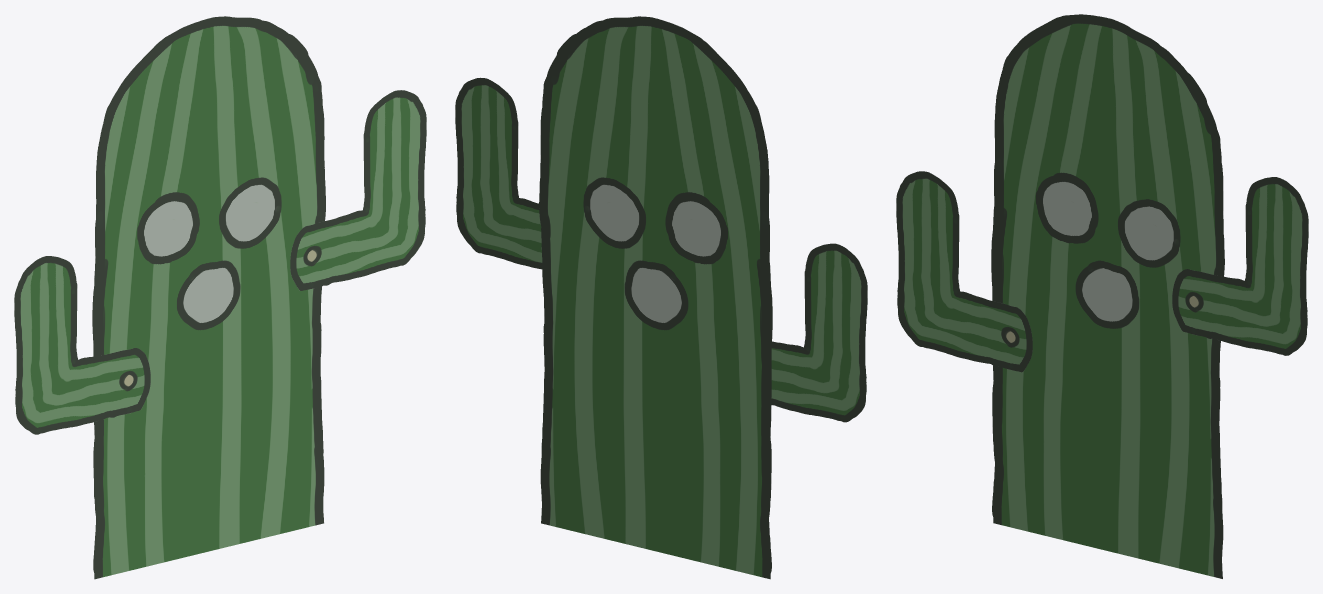
The model's file is cactus.fbx.
3 views of the same model, side by side, from view 1: azimuth 30°, elevation 25°; view 2: azimuth 150°, elevation 25°; view 3: azimuth 330°, elevation 25° (orthographic).
Visible parts, largest first — view 1: main, right, left; view 2: main, left, right; view 3: main, left, right.
Part boxes in pixels (x1,y1,x2,y2): main: (92, 16, 325, 579); right: (290, 90, 426, 290); left: (14, 256, 150, 434); main: (539, 16, 772, 579); left: (771, 243, 867, 422); right: (455, 77, 542, 269); main: (991, 14, 1224, 578); left: (896, 171, 1032, 372); right: (1172, 177, 1308, 355).
Bounding box in the file's own units: 3.51 × 4.34 × 0.124.
1 material, 1 textured.
